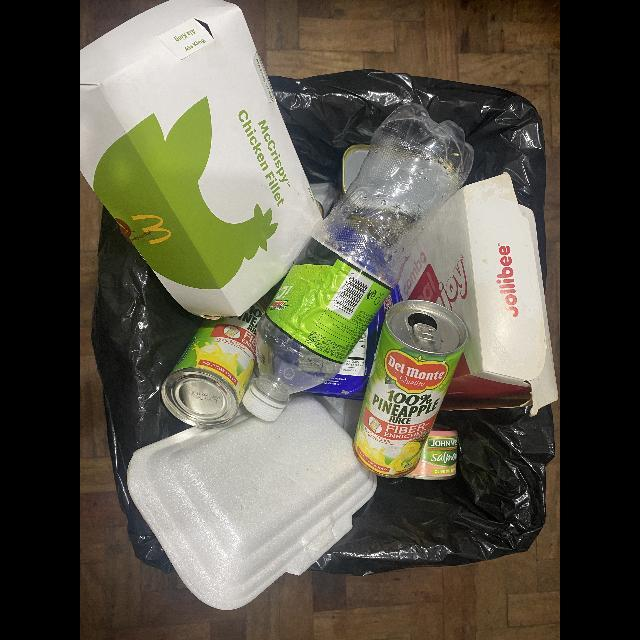metal: (353, 300, 468, 479), (161, 281, 283, 430), (302, 285, 401, 401), (404, 423, 458, 480), (332, 144, 370, 204)
paper: (80, 0, 324, 320), (398, 172, 558, 418)
plastic: (243, 103, 474, 423)
styrofoam: (127, 394, 378, 612)
